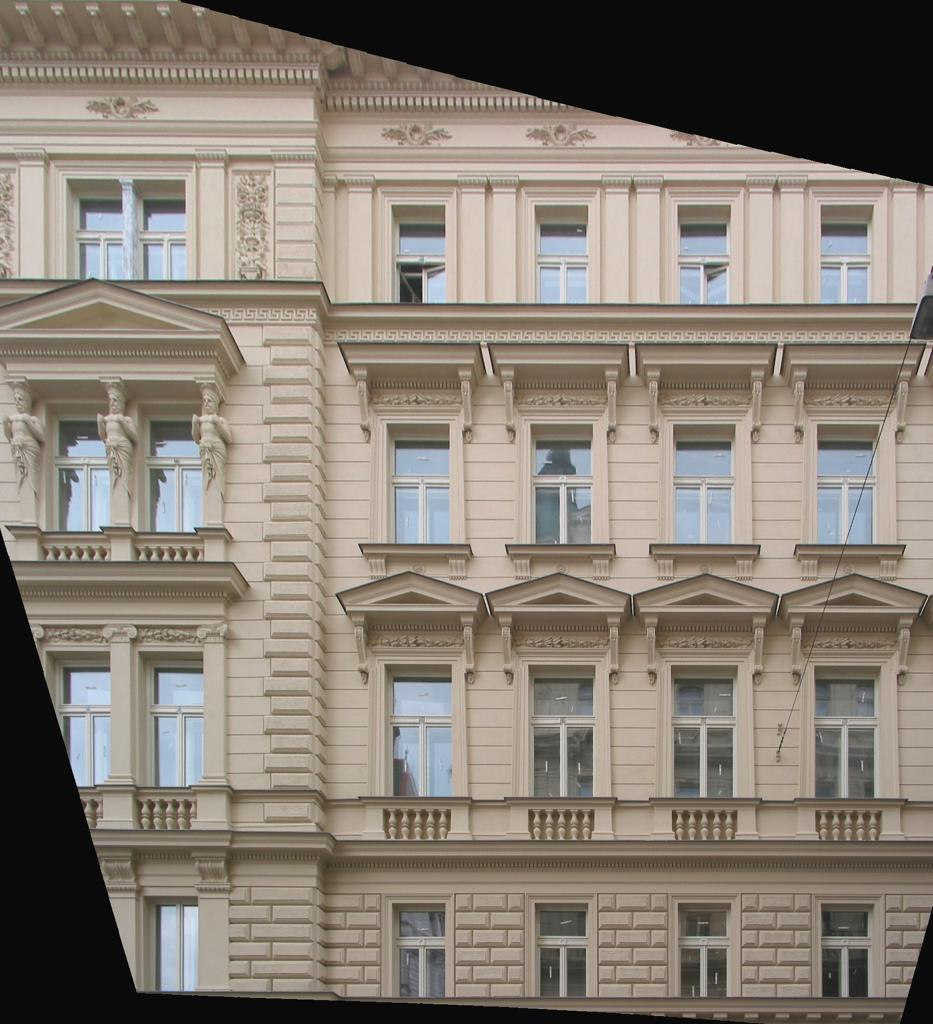window: (383, 666, 455, 798), (528, 666, 600, 798), (137, 652, 204, 786), (43, 653, 110, 787), (672, 665, 737, 799), (815, 666, 880, 798), (45, 406, 111, 534), (137, 404, 203, 532), (386, 422, 453, 544), (817, 424, 881, 547), (673, 423, 736, 544), (531, 424, 594, 544), (817, 204, 874, 304), (392, 205, 448, 304), (391, 901, 448, 998), (131, 180, 186, 280), (535, 204, 589, 304), (68, 179, 122, 279), (144, 895, 199, 993), (678, 204, 731, 304), (534, 902, 589, 998), (822, 903, 874, 1000), (679, 903, 731, 997)
